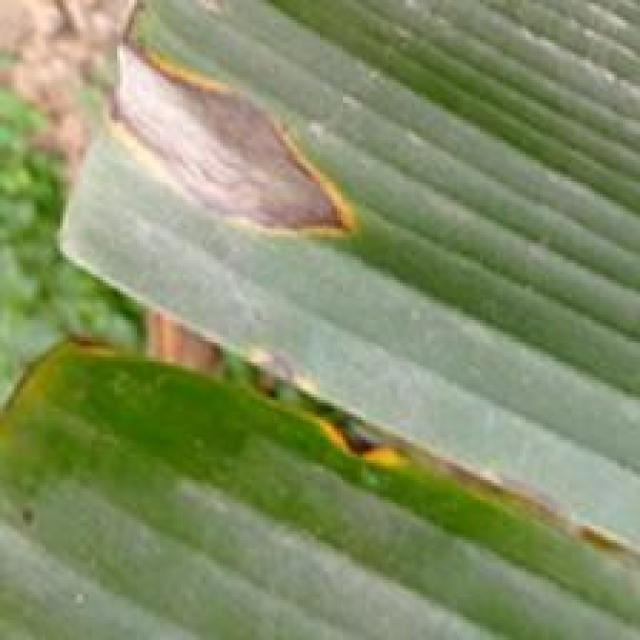Bacterial_spot: (85, 34, 376, 258), (304, 398, 408, 471), (564, 508, 640, 572), (57, 314, 123, 364)
